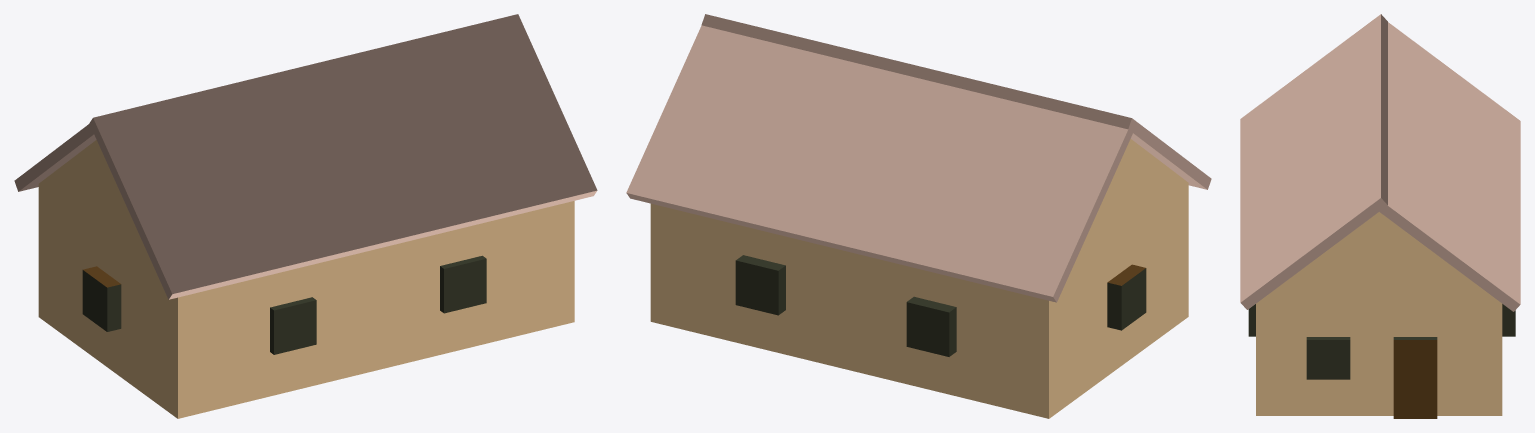
Rendered from house2.obj.
The picture shows the model from 3 angles, left to right: view 1: azimuth 30°, elevation 25°; view 2: azimuth 150°, elevation 25°; view 3: azimuth 270°, elevation 25°; orthographic projection. The views are drawn at different scales.
Visible parts, largest first — view 1: mesh777679980; view 2: mesh777679980; view 3: mesh777679980.
Part boxes in pixels (<box>): mesh777679980: <box>14,14,597,418</box>; mesh777679980: <box>626,14,1211,418</box>; mesh777679980: <box>1240,14,1520,418</box>.
Size of the model in its own units: 1 by 0.5687 by 0.6437.
